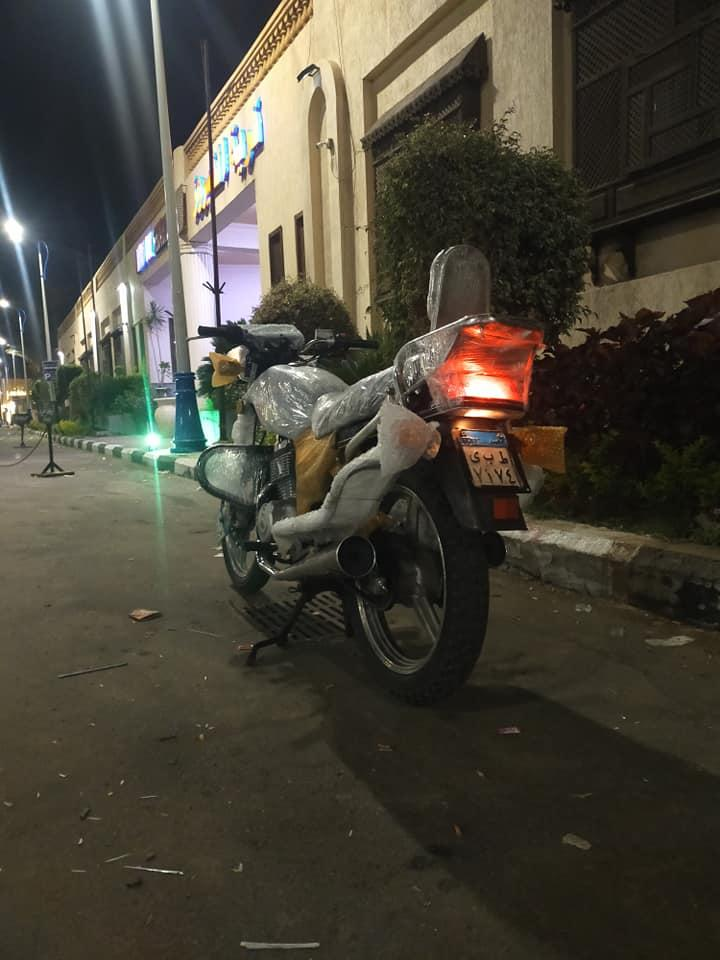License Plate: (456, 427, 530, 493)
